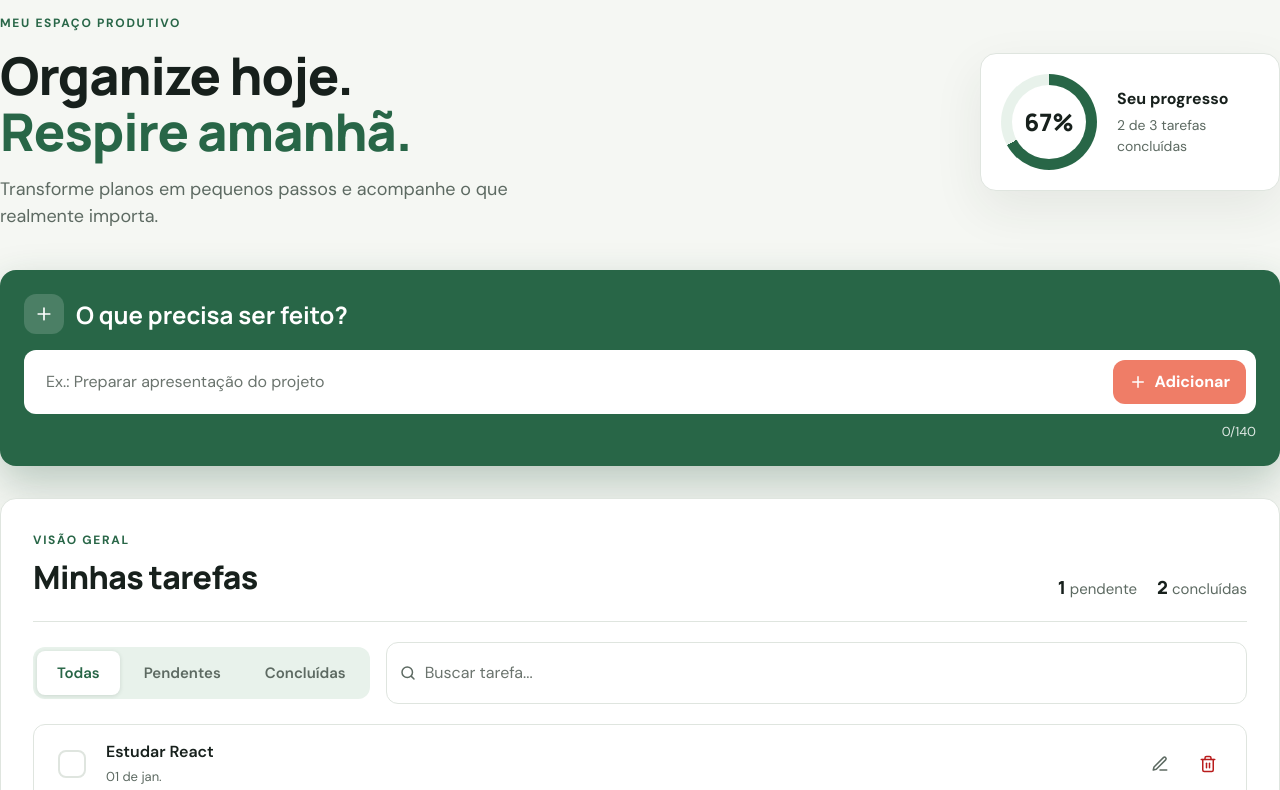
TasksPage — filtro e busca combinados › exibe somente tarefas concluídas ao selecionar Concluídas
Click the button "Concluídas" at (305, 673), box x1=245 y1=651 x2=366 y2=695
(page scrolled)
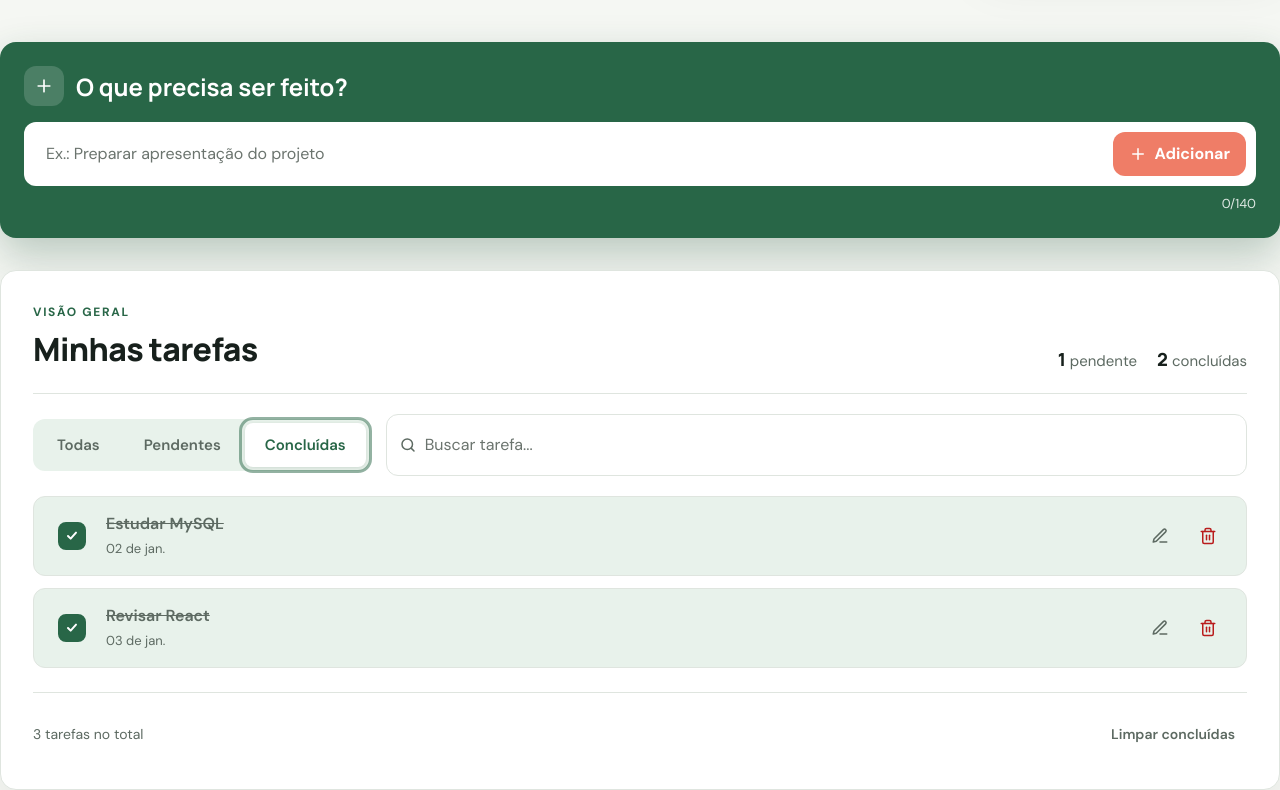
Expected: the text "Estudar MySQL" is shown, x1=106 y1=513 x2=224 y2=534
Expected: the text "Estudar React" is gone
